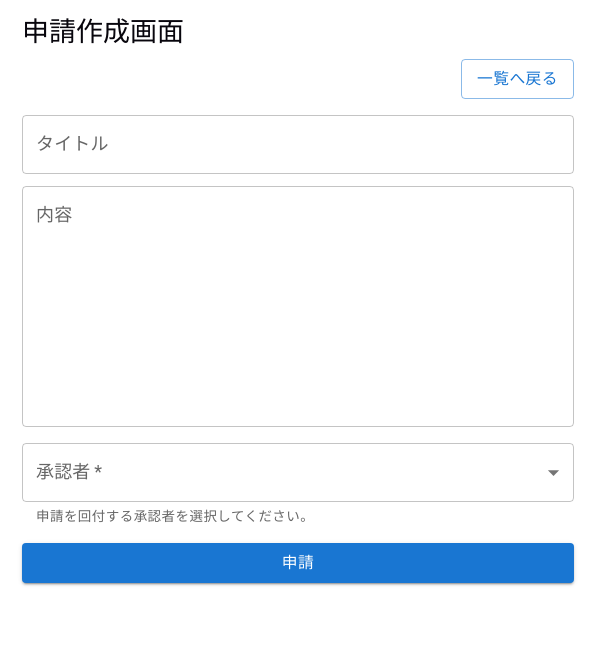
ApplicationCreatePage › 申請の作成に失敗した場合、エラーメッセージを表示して作成画面に留まること
Type "新規申請タイトル" into the field labelled "タイトル" at (298, 144), box x1=22 y1=115 x2=574 y2=174
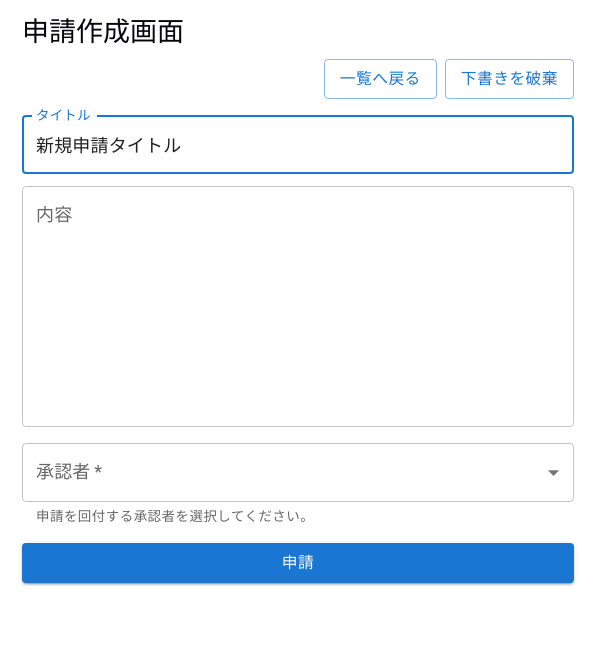
Type "新規申請内容" into the text box labelled "内容" at (298, 306), box x1=36 y1=202 x2=560 y2=410
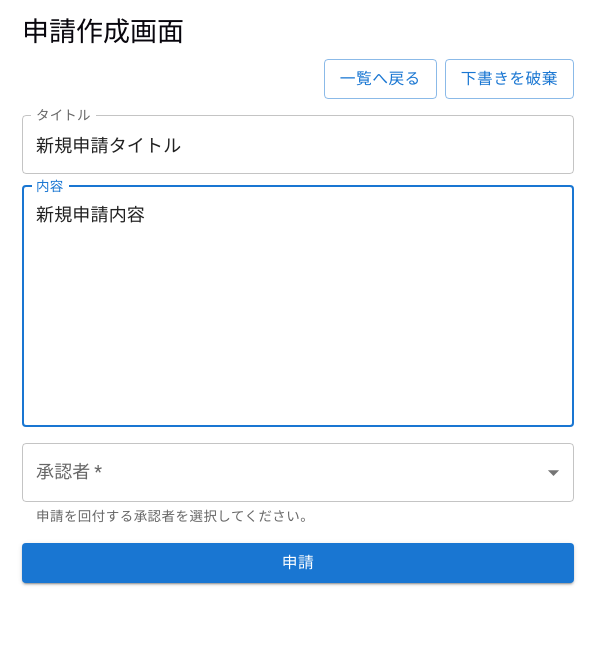
Click the dropdown named "承認者 *" at (298, 472), box x1=22 y1=443 x2=574 y2=502
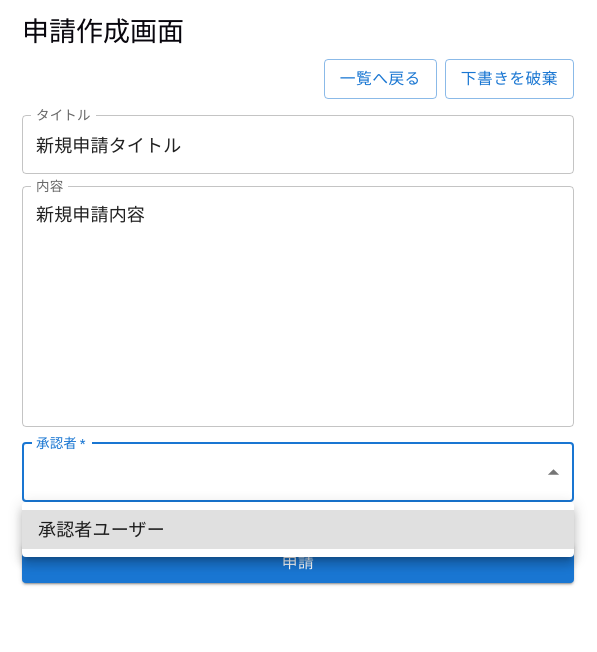
Click the option "承認者ユーザー" at (101, 530), box x1=22 y1=510 x2=574 y2=549
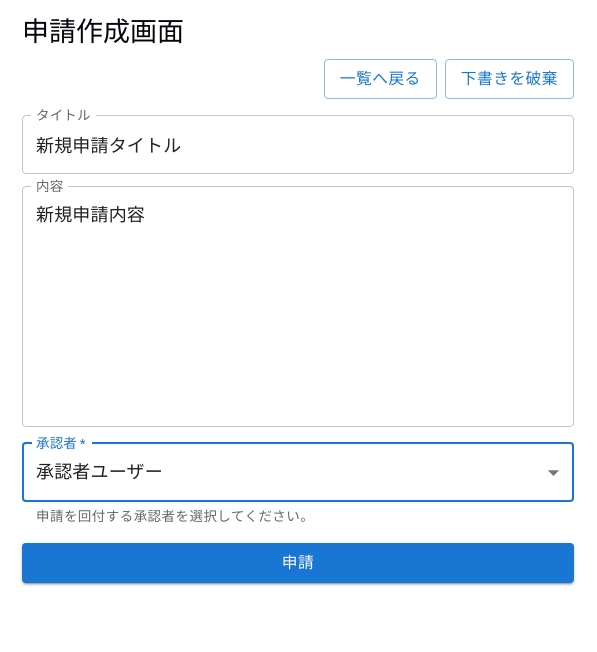
Click the button "申請" at (298, 563), box x1=22 y1=543 x2=574 y2=583
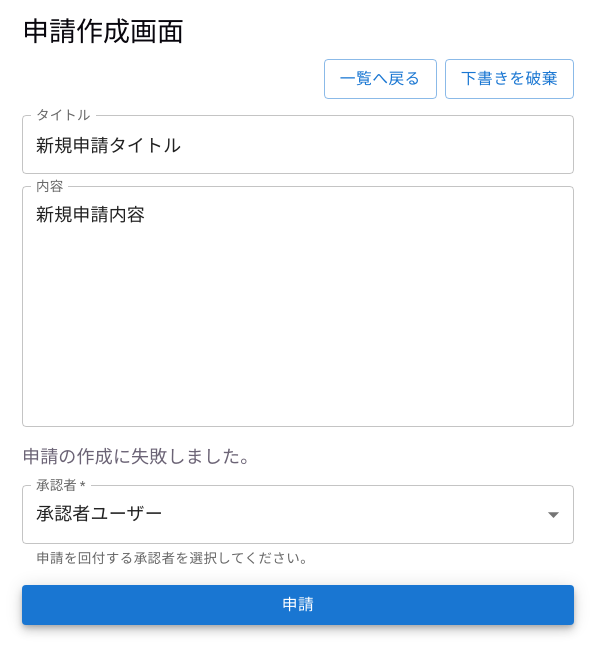
expect the heading "申請作成画面" is shown: met, box x1=22 y1=16 x2=184 y2=48
expect the text "申請の作成に失敗しました。" is shown: met, box x1=22 y1=444 x2=258 y2=468
